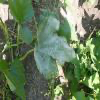Squash Powdery mildew leaf: (33, 12, 76, 80)
